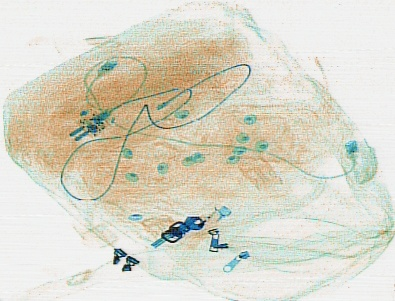lighter: (179, 203, 232, 250)
